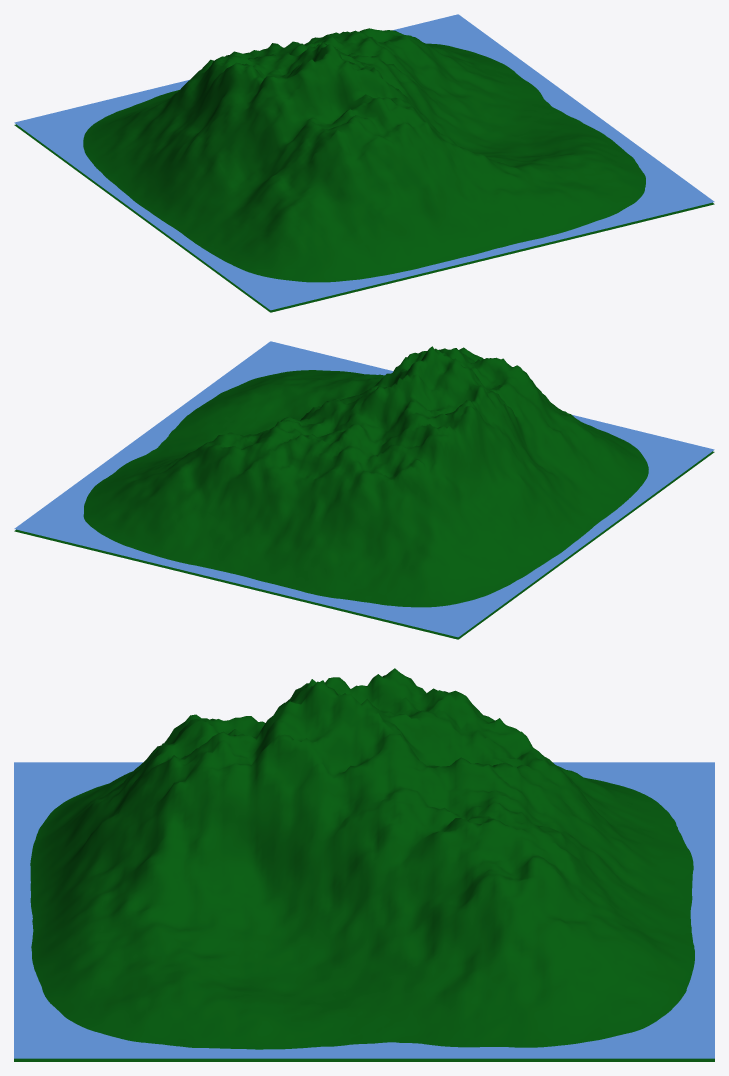
The model's file is Landscape.fbx.
3 renders of one model, top to bottom at view 1: azimuth 30°, elevation 25°; view 2: azimuth 150°, elevation 25°; view 3: azimuth 270°, elevation 25°, orthographic. The views are drawn at different scales.
Visible parts, largest first — view 1: Landscape, Landscape_plane; view 2: Landscape, Landscape_plane; view 3: Landscape, Landscape_plane.
Boxes of the visible parts, x1,y1,x2,y2 form: Landscape: (14, 28, 714, 312); Landscape_plane: (14, 14, 714, 310); Landscape: (14, 346, 714, 639); Landscape_plane: (14, 341, 714, 637); Landscape: (14, 668, 714, 1061); Landscape_plane: (14, 762, 714, 1058).
Size of the model in its own units: 1289 by 403 by 1289.
